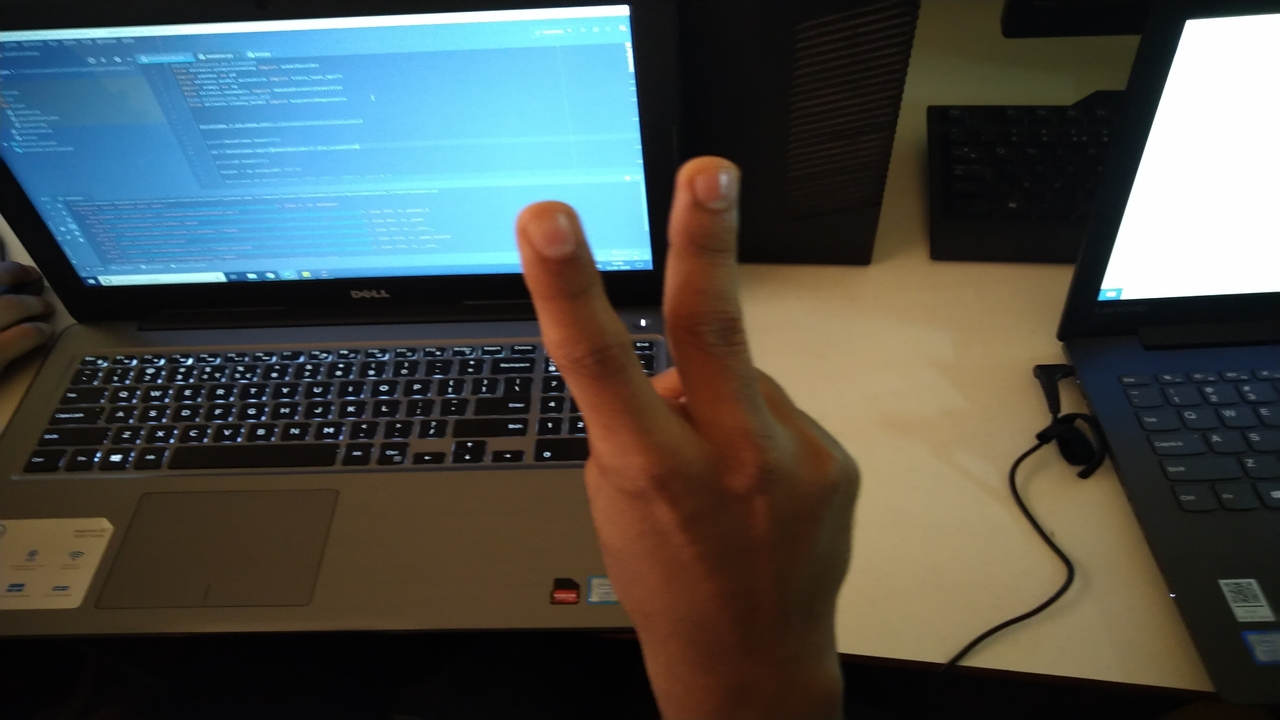fingertip: (508, 196, 588, 270), (668, 152, 742, 220)
